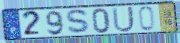0: (137, 5, 157, 33), (91, 7, 111, 34)
2: (21, 10, 45, 38)
9: (44, 10, 65, 36)
S: (65, 9, 92, 35)
U: (111, 5, 136, 33)
